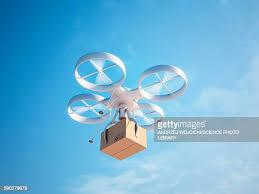drone: (58, 49, 190, 133)
